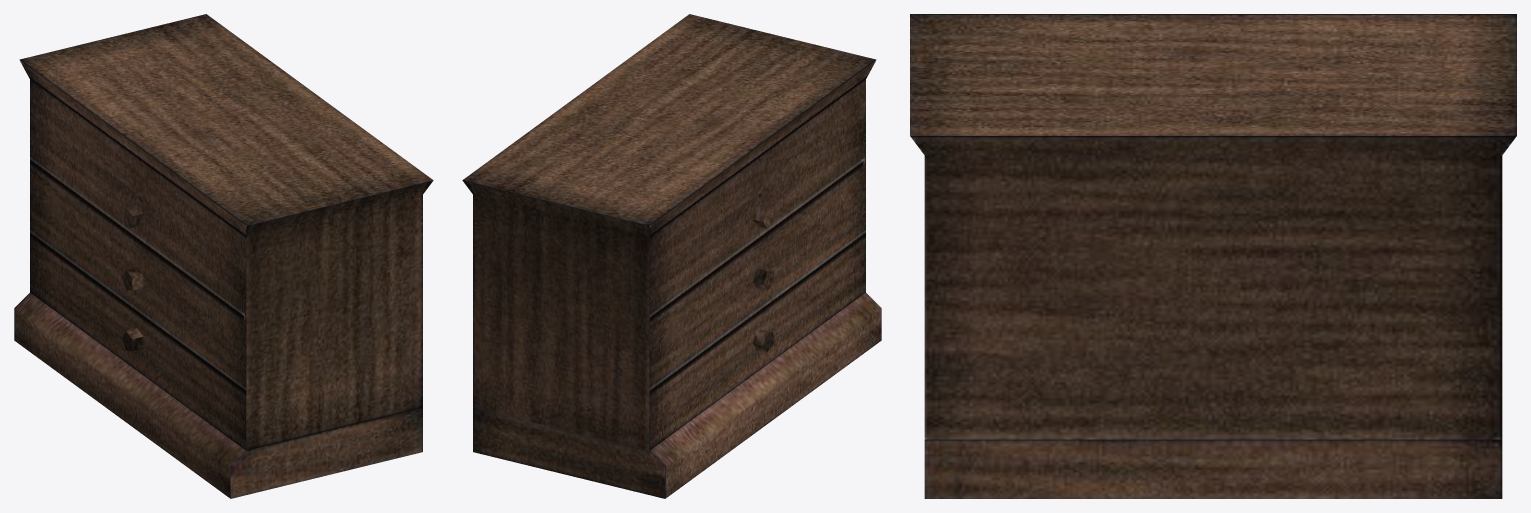
Rendered from objects_drawers_1.glb.
The picture shows the model from 3 angles, left to right: view 1: azimuth 30°, elevation 25°; view 2: azimuth 150°, elevation 25°; view 3: azimuth 270°, elevation 25°; orthographic projection. The views are drawn at different scales.
Parts seen in each view (by area): view 1: drawers_1; view 2: drawers_1; view 3: drawers_1.
Part boxes in pixels (box(x1,y1,x2,y2)): drawers_1: box(14, 14, 433, 498); drawers_1: box(462, 14, 881, 498); drawers_1: box(910, 14, 1516, 498).
Size of the model in its own units: 1.24 by 1.65 by 2.47.
Materials: 1 (1 with a texture image).
